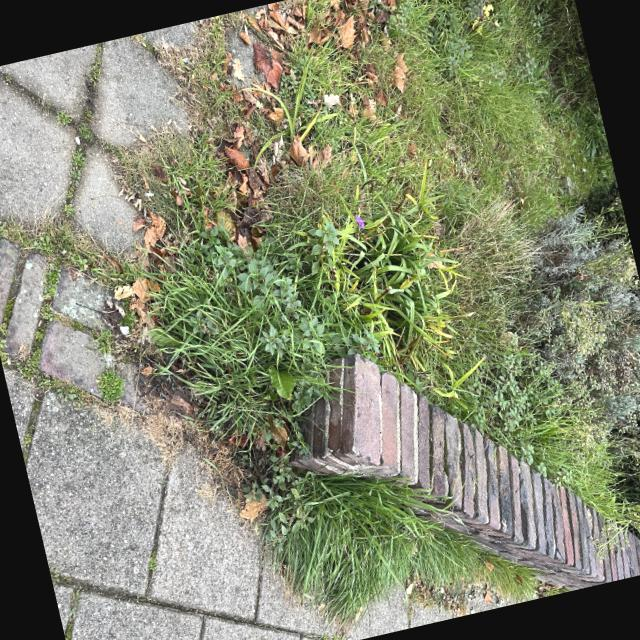pavement: (528, 501, 640, 597)
plants: (98, 0, 553, 493)
weed: (216, 99, 613, 477)
weedling: (45, 515, 405, 639)
